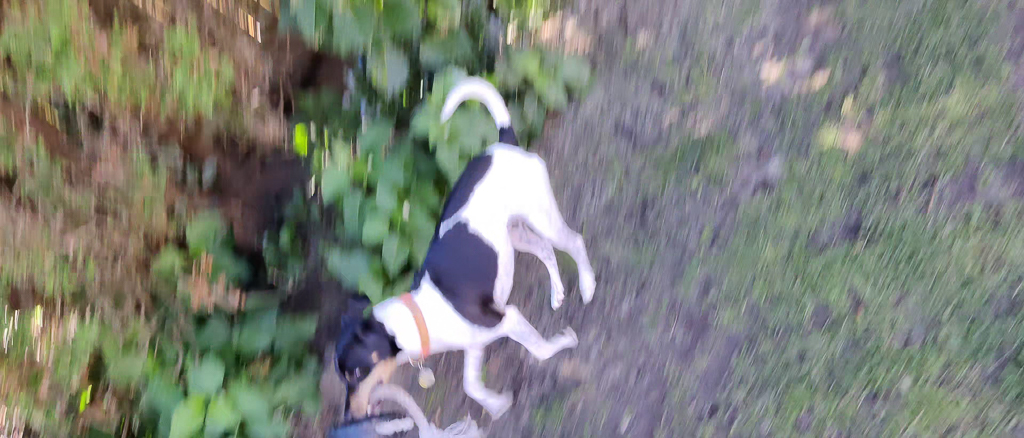Dog: (326, 65, 601, 438)
